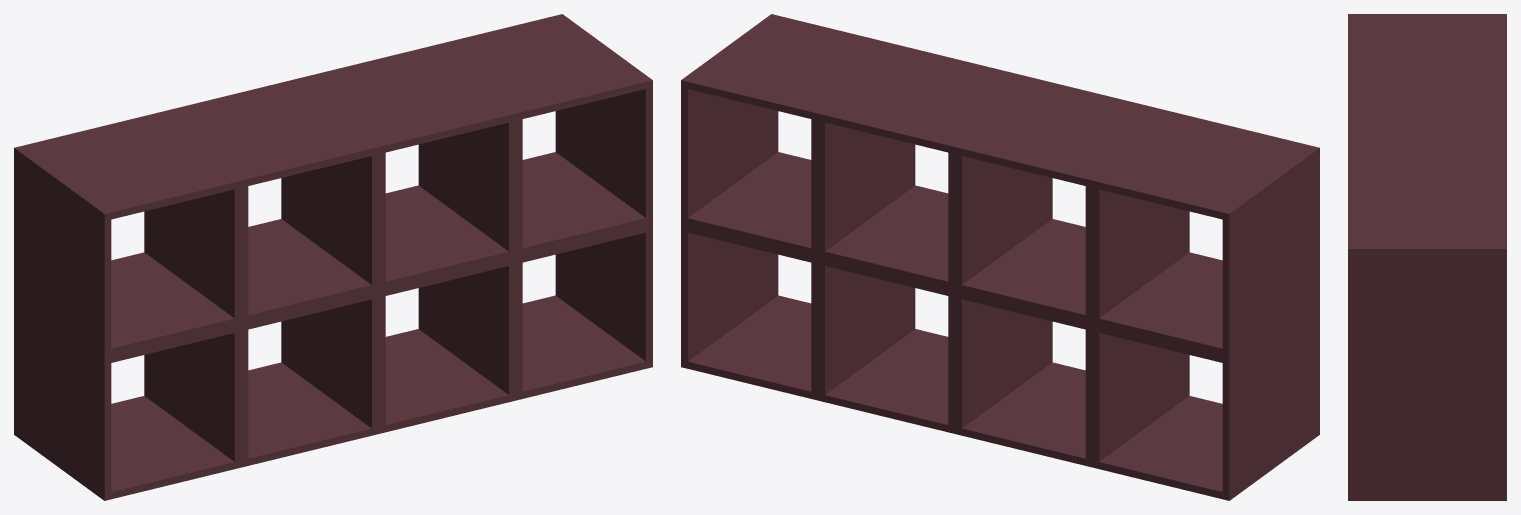
The model's file is furniture-cabinet-small-horizontal.glb.
The picture shows the model from 3 angles, left to right: view 1: azimuth 30°, elevation 25°; view 2: azimuth 150°, elevation 25°; view 3: azimuth 270°, elevation 25°; orthographic projection. The views are drawn at different scales.
Parts seen in each view (by area): view 1: cabinet-small-horizontal; view 2: cabinet-small-horizontal; view 3: cabinet-small-horizontal.
Part boxes in pixels (x1=…): cabinet-small-horizontal: x1=14, y1=14, x2=652, y2=500; cabinet-small-horizontal: x1=681, y1=14, x2=1319, y2=500; cabinet-small-horizontal: x1=1348, y1=14, x2=1506, y2=500.
Bounding box in the file's own units: 1.4 × 0.7 × 0.4.
